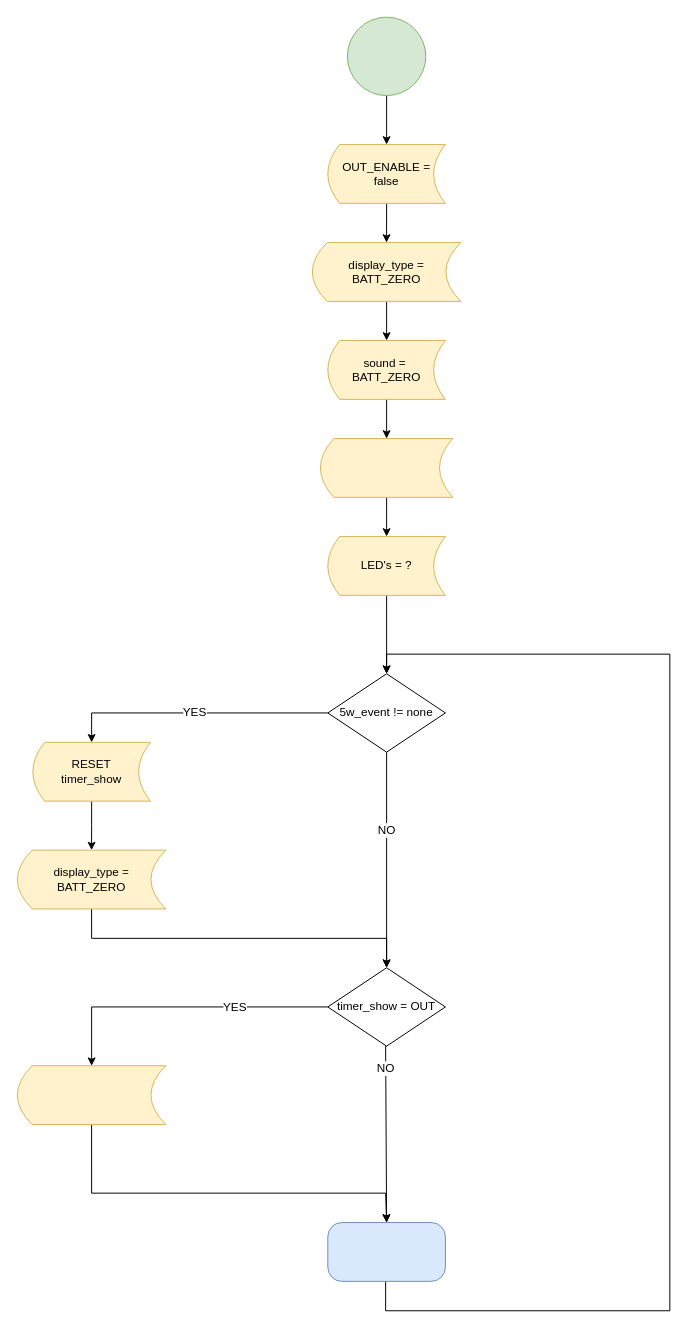
This 695x1336 diagram has some shape labels left out. The centre of each missing label's shape, as x and y in pixels:
"display_type = BLANK" belongs at (x=91, y=1095).
"off_charger = false" belongs at (x=386, y=467).
"START" belongs at (x=386, y=56).
"UPDATES" belongs at (x=386, y=1251).
